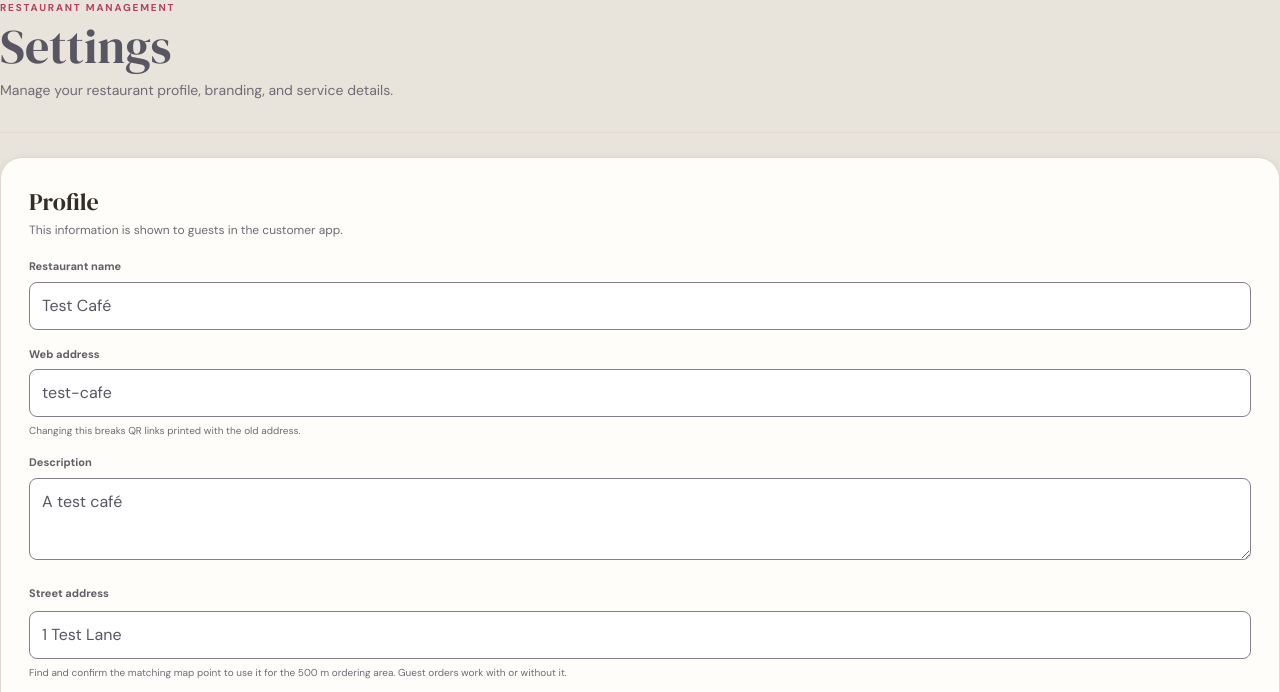
SettingsPage › refuses to save an invalid web address
Replace the text in the field labelled "Web address" with "Bad Slug!". click: (640, 393)
box: [29,369,1251,417]
(page scrolled)
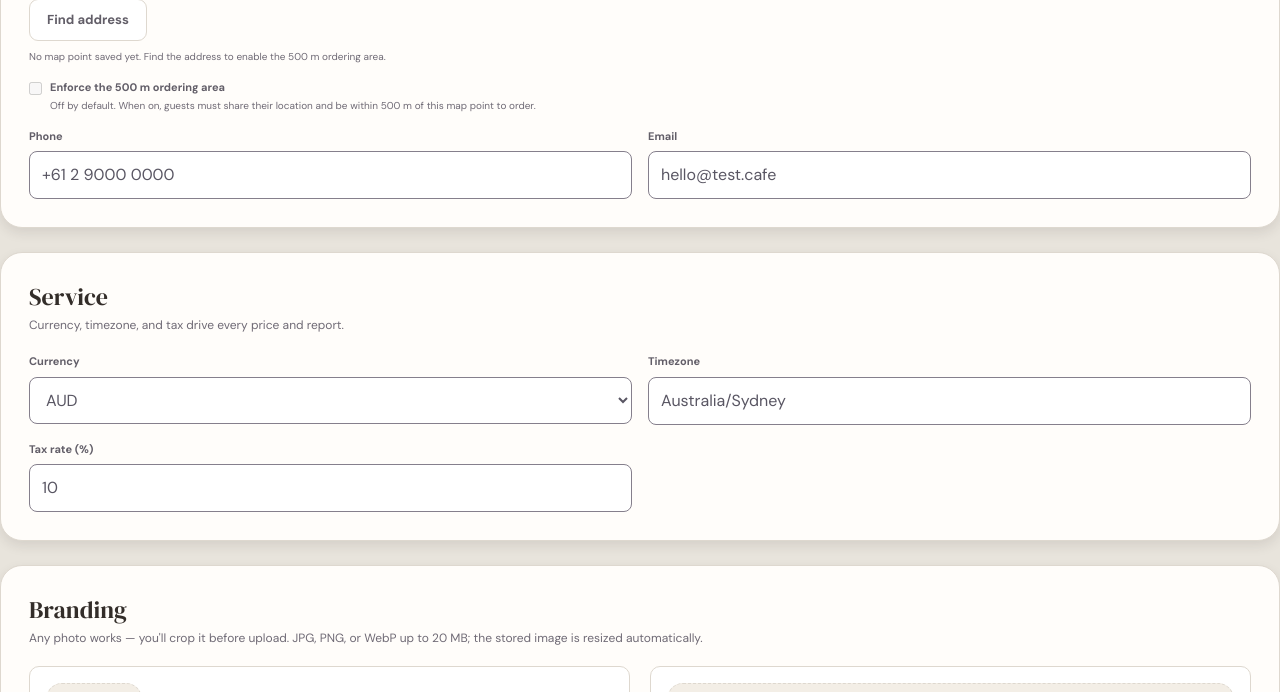
Submit the form named "save changes"
(page scrolled)
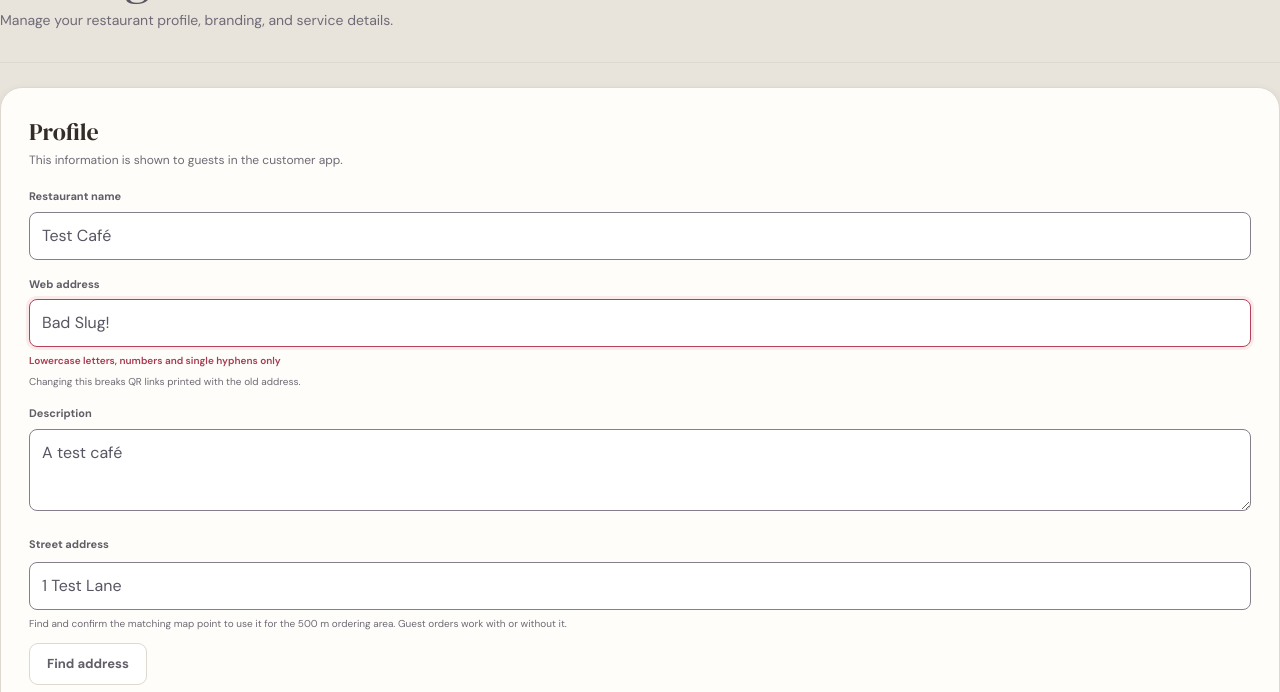
Expected: the text "Lowercase letters, numbers and single hyphens only" is shown, [29,354,281,367]
